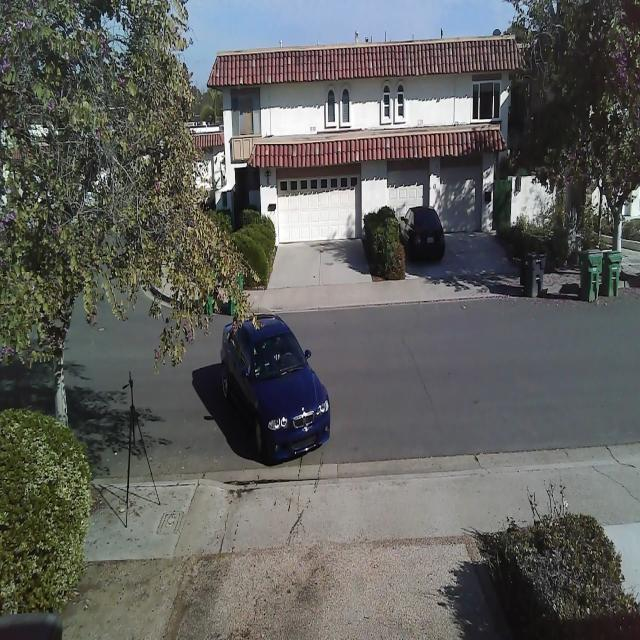Carbeetle: (213, 282, 335, 499)
